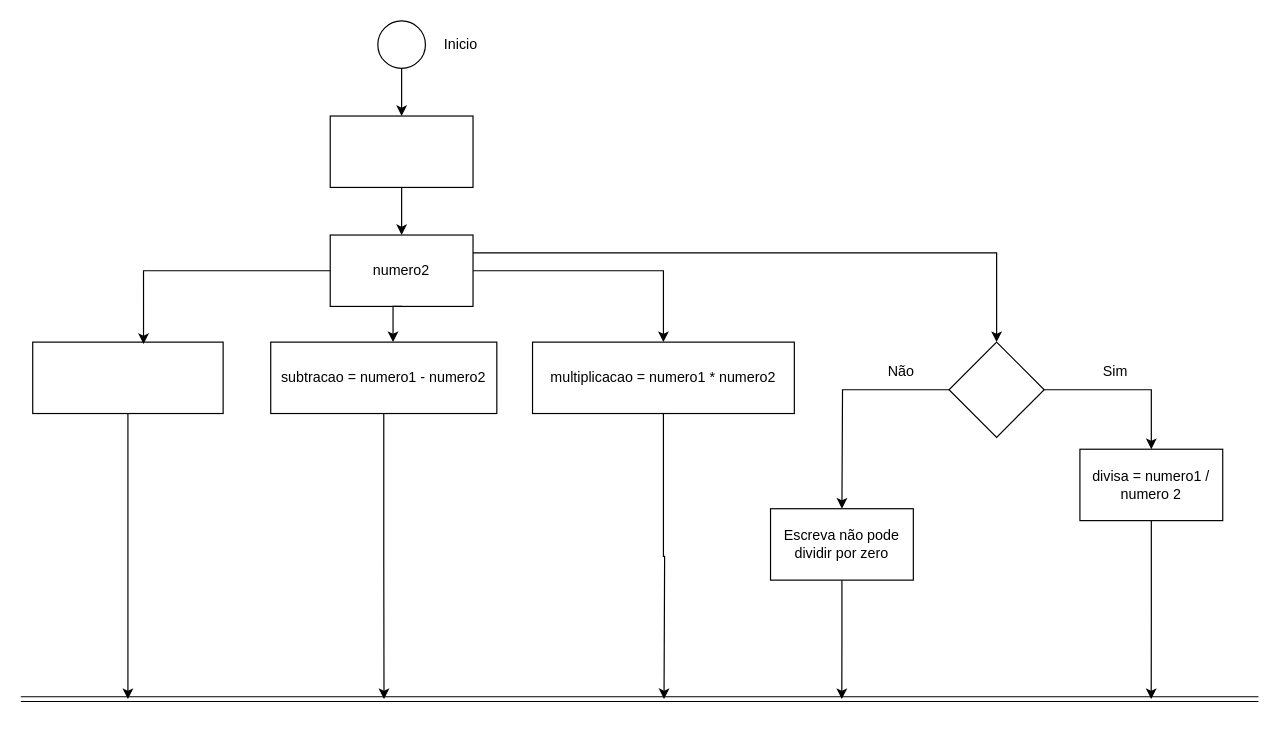
This 1279x729 diagram has some shape labels left out. Each missing label, with the centre of its shape:
"numero1" belongs at point (401, 151).
"numero2 > 0" belongs at point (996, 389).
"soma = numero1 + numero" belongs at point (127, 377).
